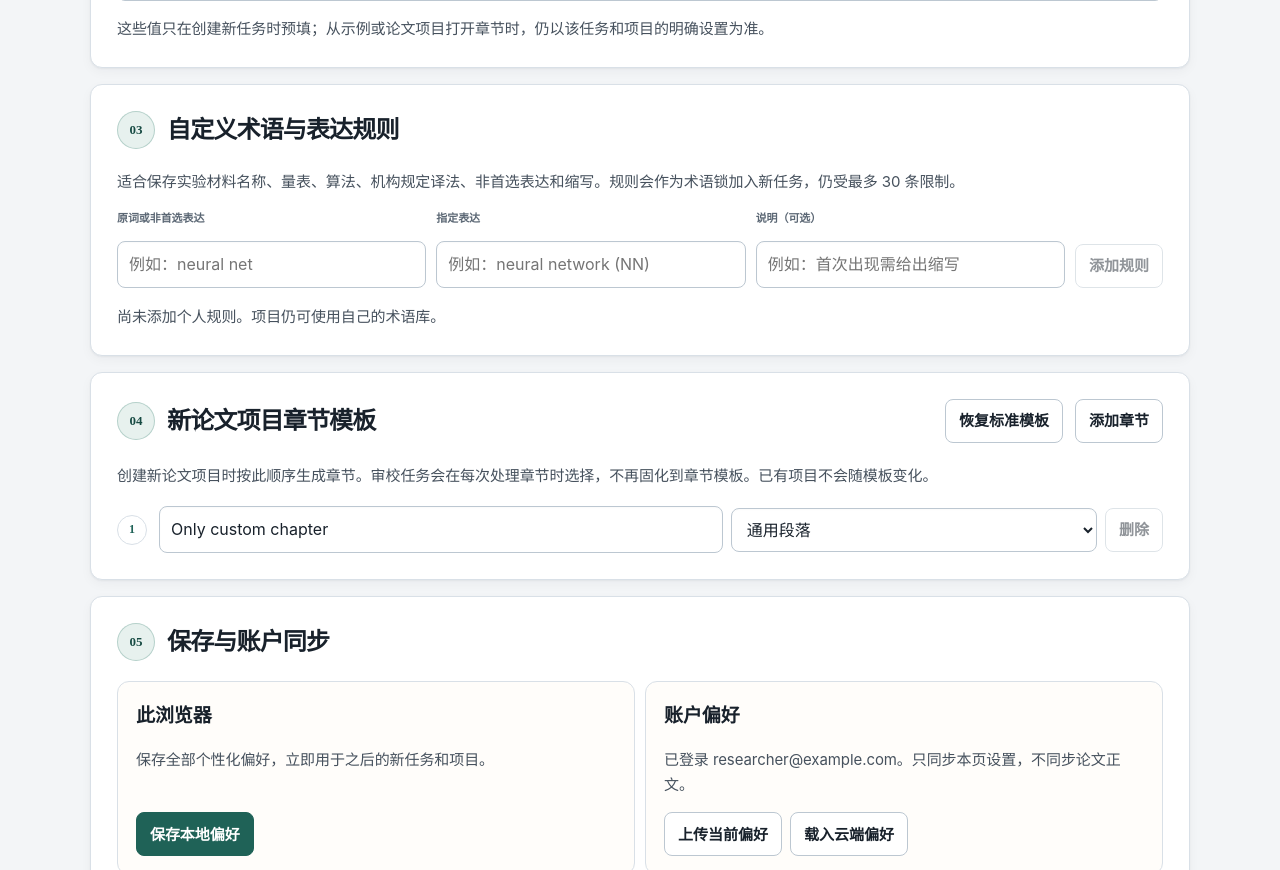
Scenario: PreferencesManager › keeps a custom chapter template until reset is explicitly confirmed
This screenshot has width=1280, height=870.
(page scrolled)
Expected: the field named "模板章节 1 名称" holds "Only custom chapter", [159,506,723,553]
What coordinates should you click on to do the following:
click the button "恢复标准模板"
I would click on:
 (1004, 421)
Its box is [945,399,1063,443].
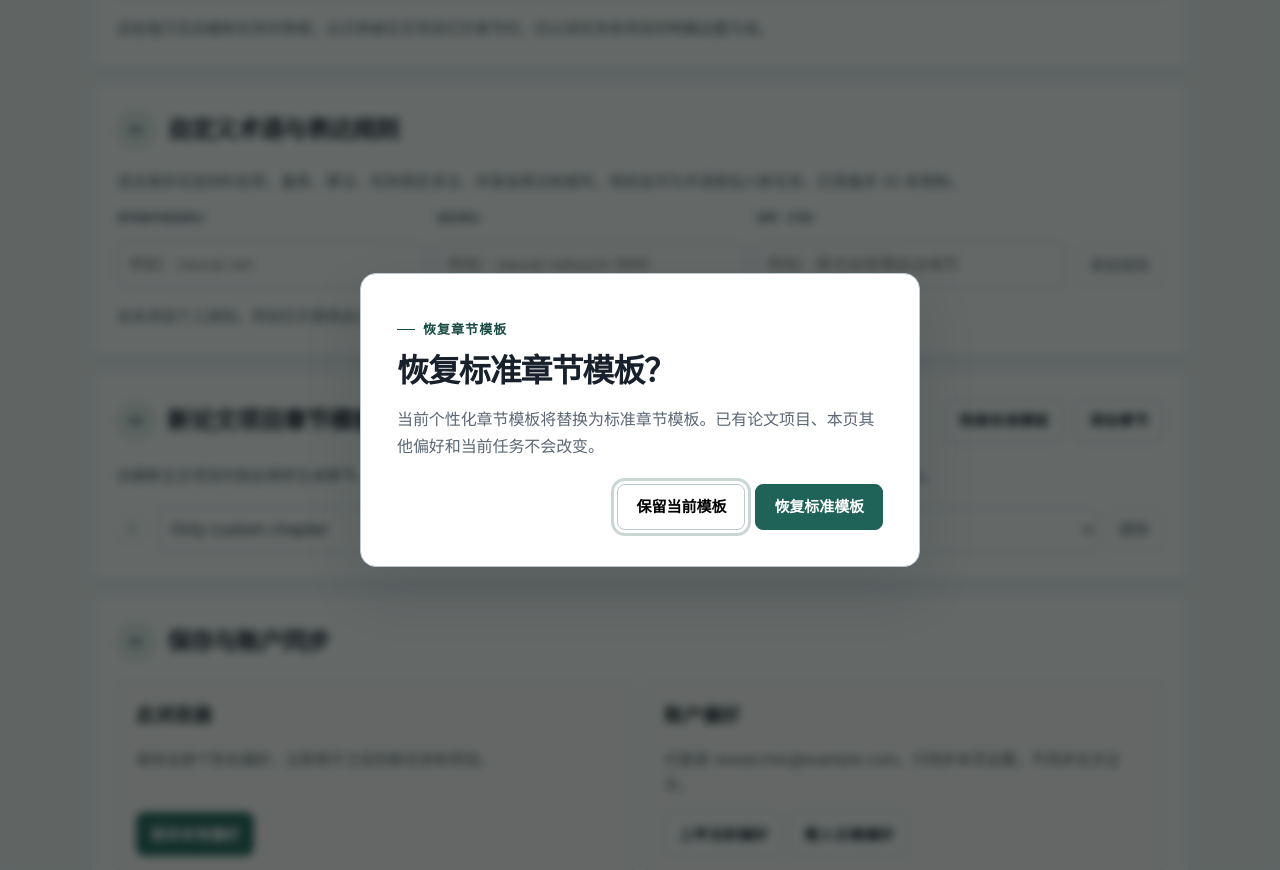
Expected: the field named "模板章节 1 名称" holds "Only custom chapter", [159,506,723,553]
What coordinates should you click on to do the following:
click the button "保留当前模板"
I would click on:
 (681, 507)
Its box is [617,484,745,530].
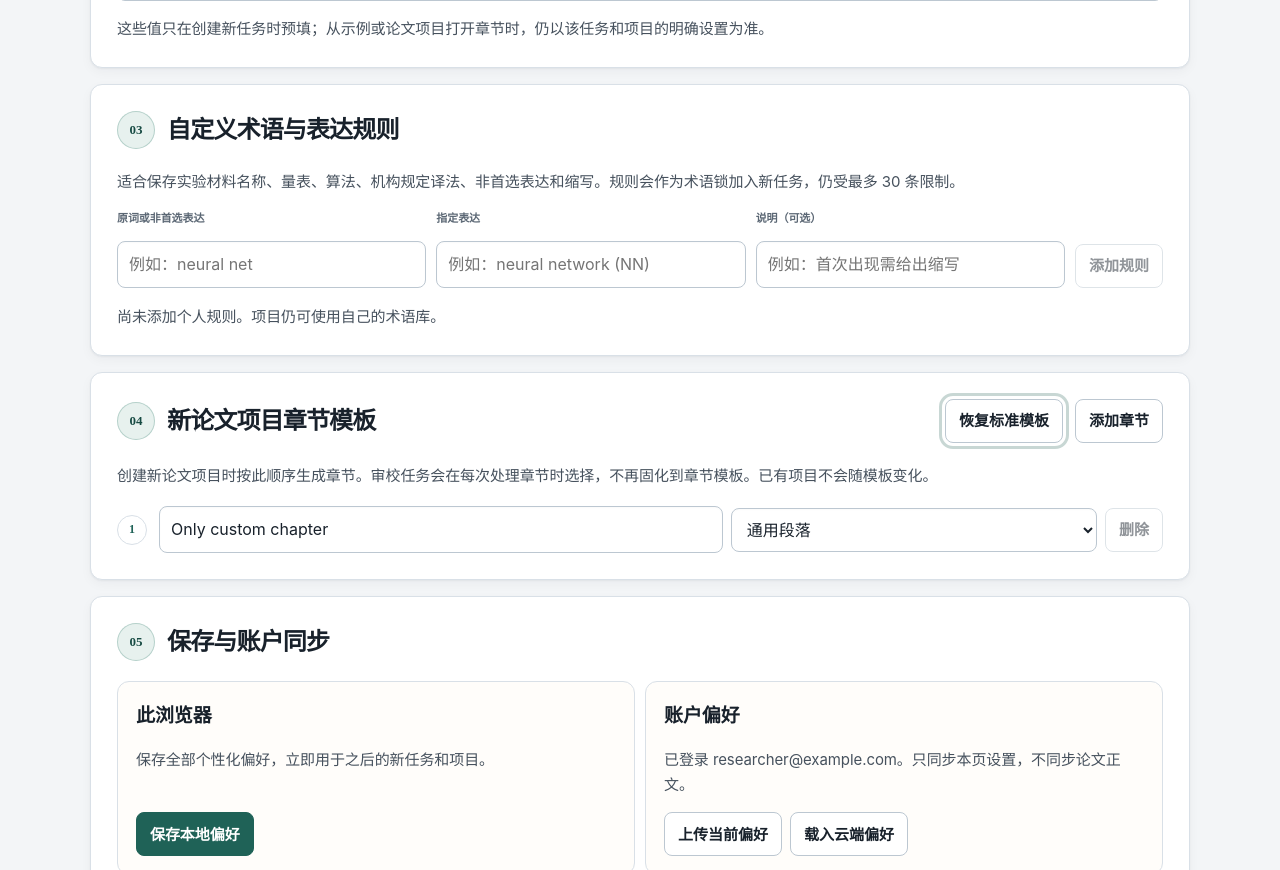
Expected: the field named "模板章节 1 名称" holds "Only custom chapter", [159,506,723,553]
What coordinates should you click on to do the following:
click the button "恢复标准模板"
I would click on:
 (1004, 421)
Its box is [945,399,1063,443].
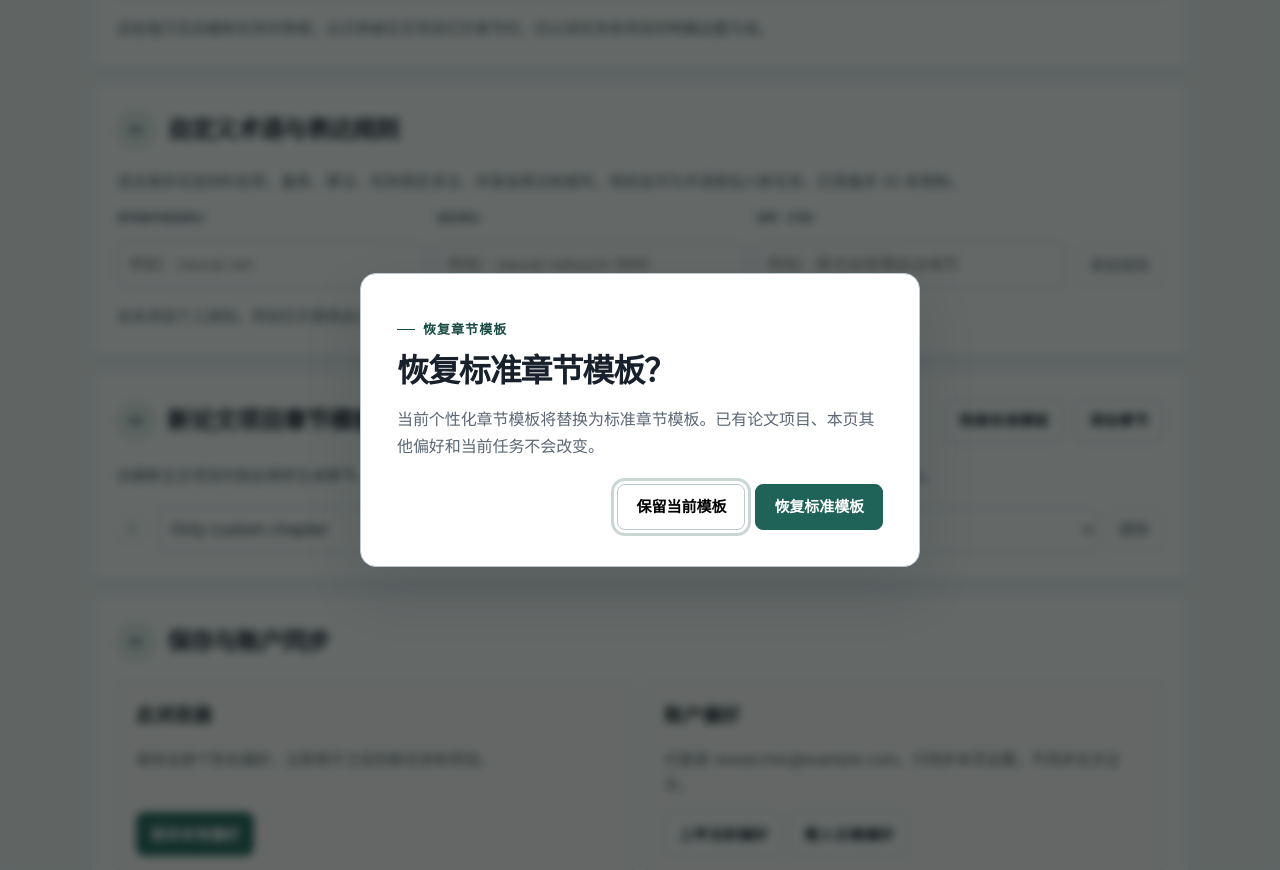
What coordinates should you click on to do the following:
click the button "恢复标准模板"
I would click on:
 (819, 507)
Its box is [755,484,883,530].
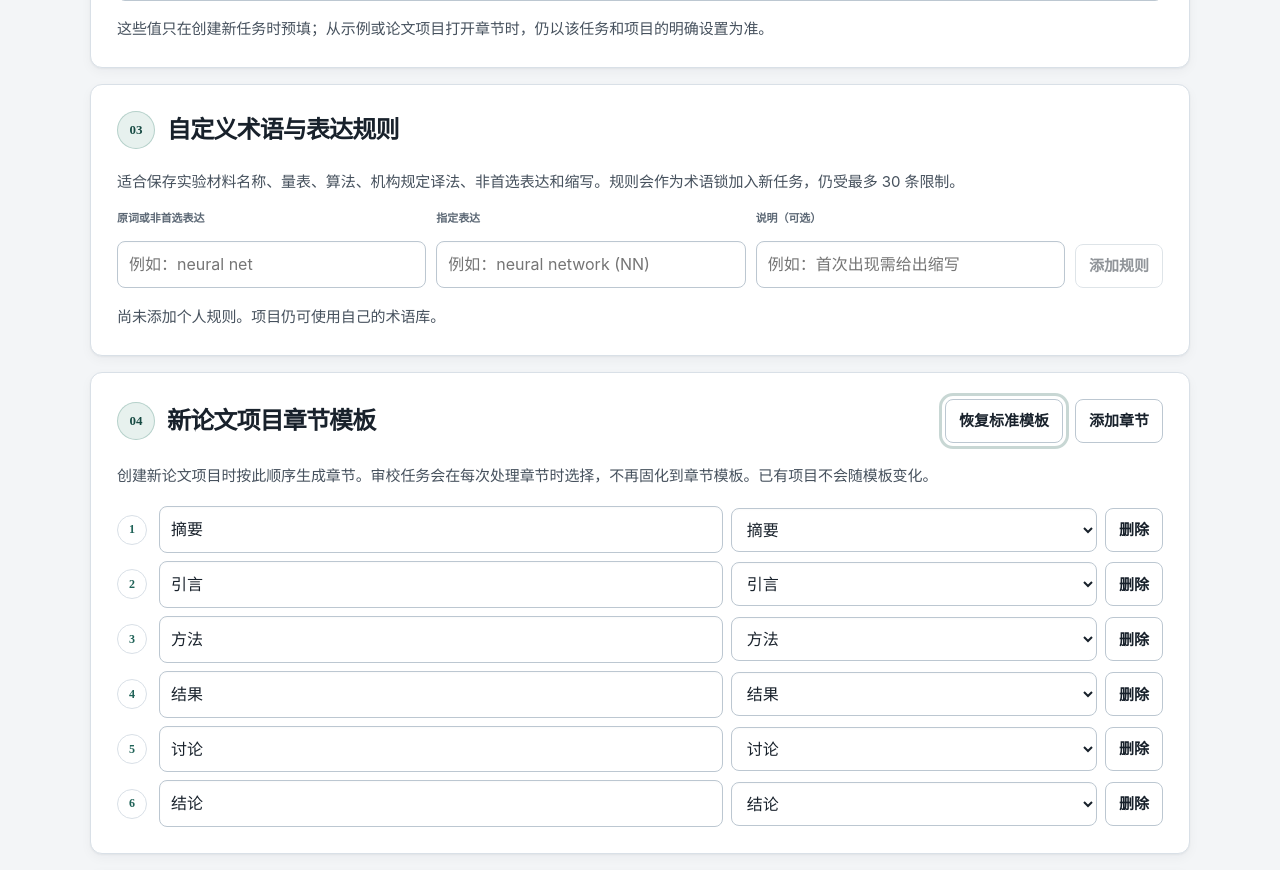
Now the number of fields named "模板章节 1 名称" is 6, box [159,506,723,553]; [159,561,723,608]; [159,616,723,663]; [159,671,723,718]; [159,726,723,772]; [159,780,723,827]
